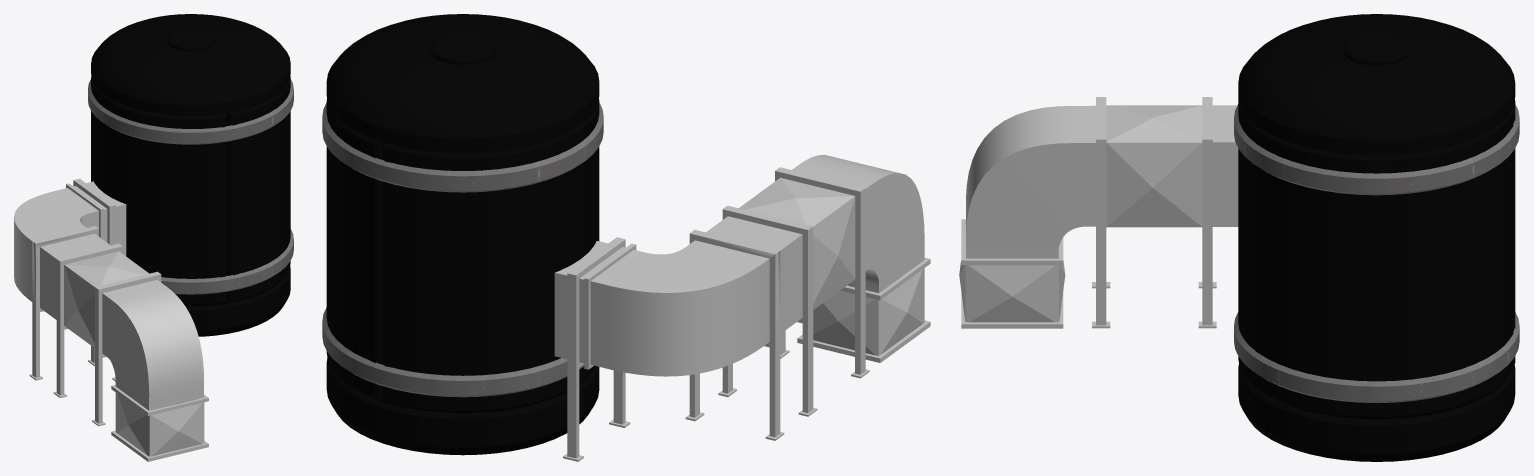
Rendered from KB3D_CBP_WaterTank_E.fbx.
3 renders of one model, left to right at view 1: azimuth 30°, elevation 25°; view 2: azimuth 150°, elevation 25°; view 3: azimuth 270°, elevation 25°, orthographic. The views are drawn at different scales.
Visible parts, largest first — view 1: KB3D_CBP_WaterTank_E_Main; view 2: KB3D_CBP_WaterTank_E_Main; view 3: KB3D_CBP_WaterTank_E_Main.
Boxes of the visible parts, <box> form: KB3D_CBP_WaterTank_E_Main: <box>14,14,293,461</box>; KB3D_CBP_WaterTank_E_Main: <box>322,14,930,461</box>; KB3D_CBP_WaterTank_E_Main: <box>959,14,1519,461</box>.
Bounding box in the file's own units: 501 × 451 × 617.
